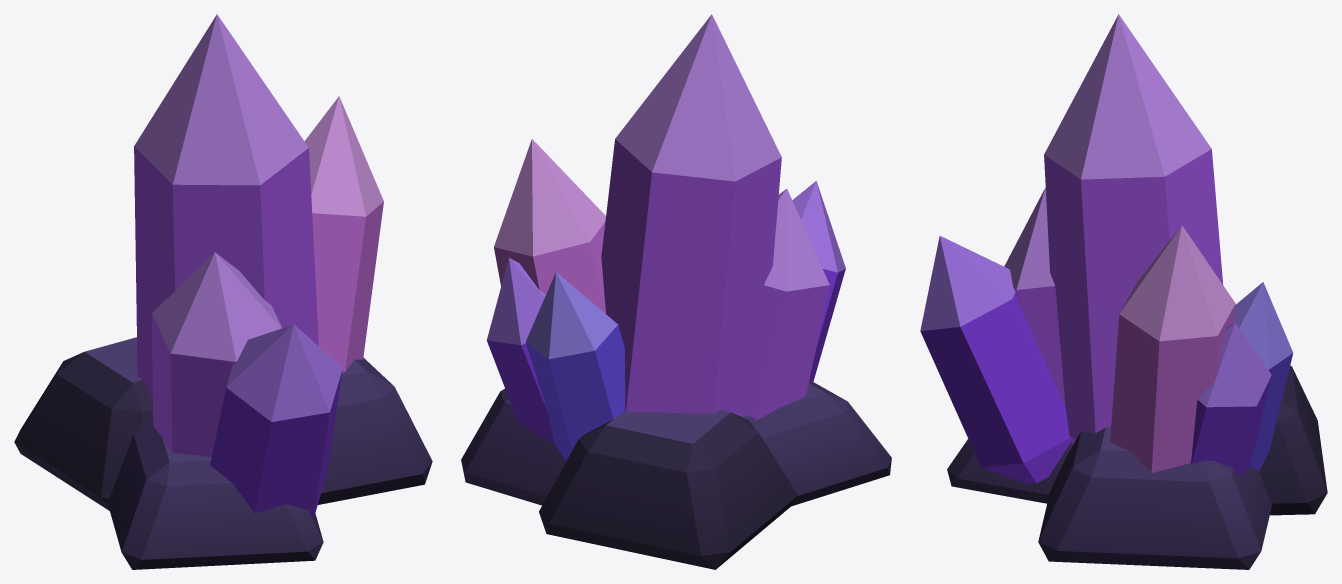
Rendered from void_crystal_3.glb.
The picture shows the model from 3 angles, left to right: view 1: azimuth 30°, elevation 25°; view 2: azimuth 150°, elevation 25°; view 3: azimuth 270°, elevation 25°; orthographic projection. The views are drawn at different scales.
Parts seen in each view (by area): view 1: Glow, Body; view 2: Glow, Body; view 3: Glow, Body.
Boxes of the visible parts, x1,y1,x2,y2 form: Glow: [134, 14, 383, 518]; Body: [14, 337, 432, 569]; Glow: [486, 14, 845, 461]; Body: [461, 380, 891, 569]; Glow: [920, 14, 1293, 484]; Body: [947, 365, 1327, 569].
Size of the model in its own units: 2.45 by 3.35 by 2.64.
